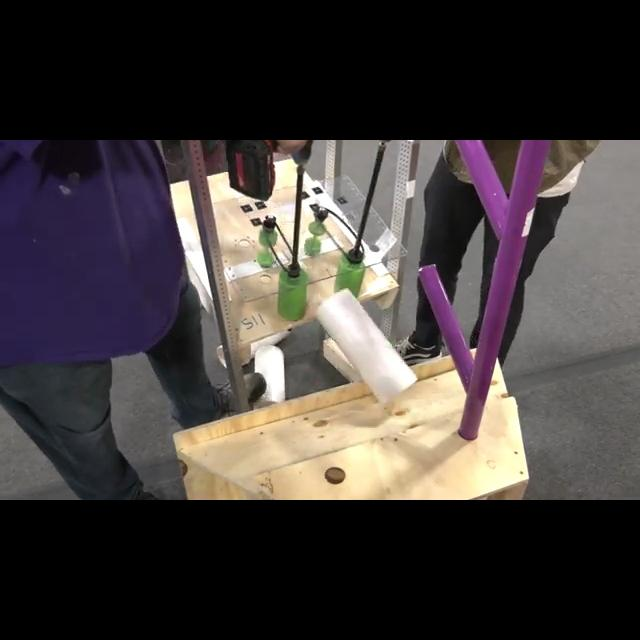CORAL: (314, 286, 418, 404), (255, 347, 288, 407)
